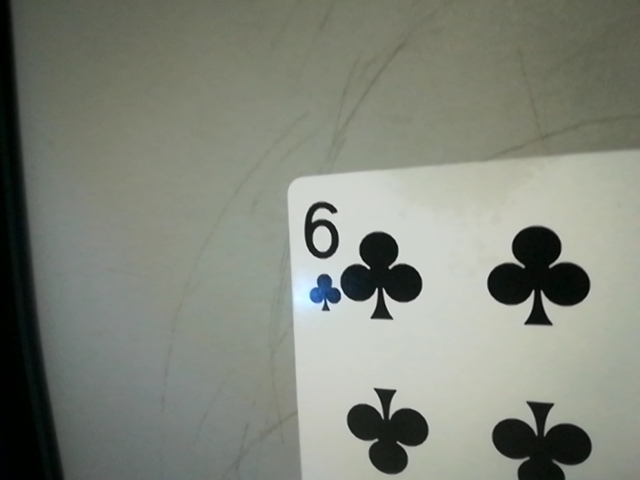mh 6: (292, 192, 349, 315)
